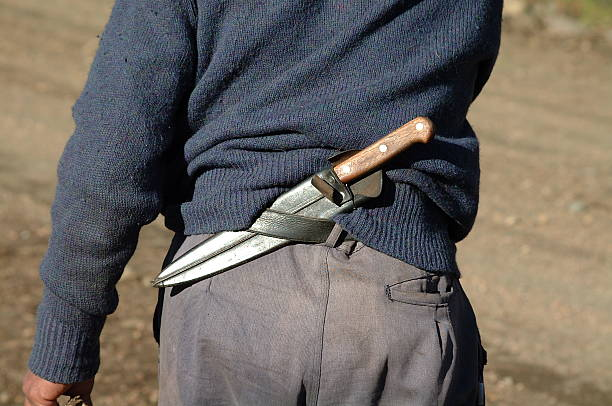knife: (153, 116, 433, 288)
